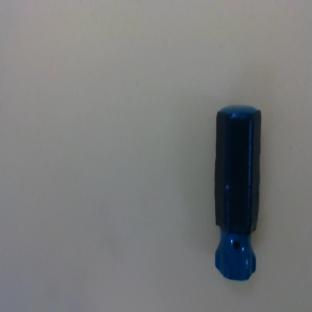part_2_bad: (213, 105, 261, 280)
